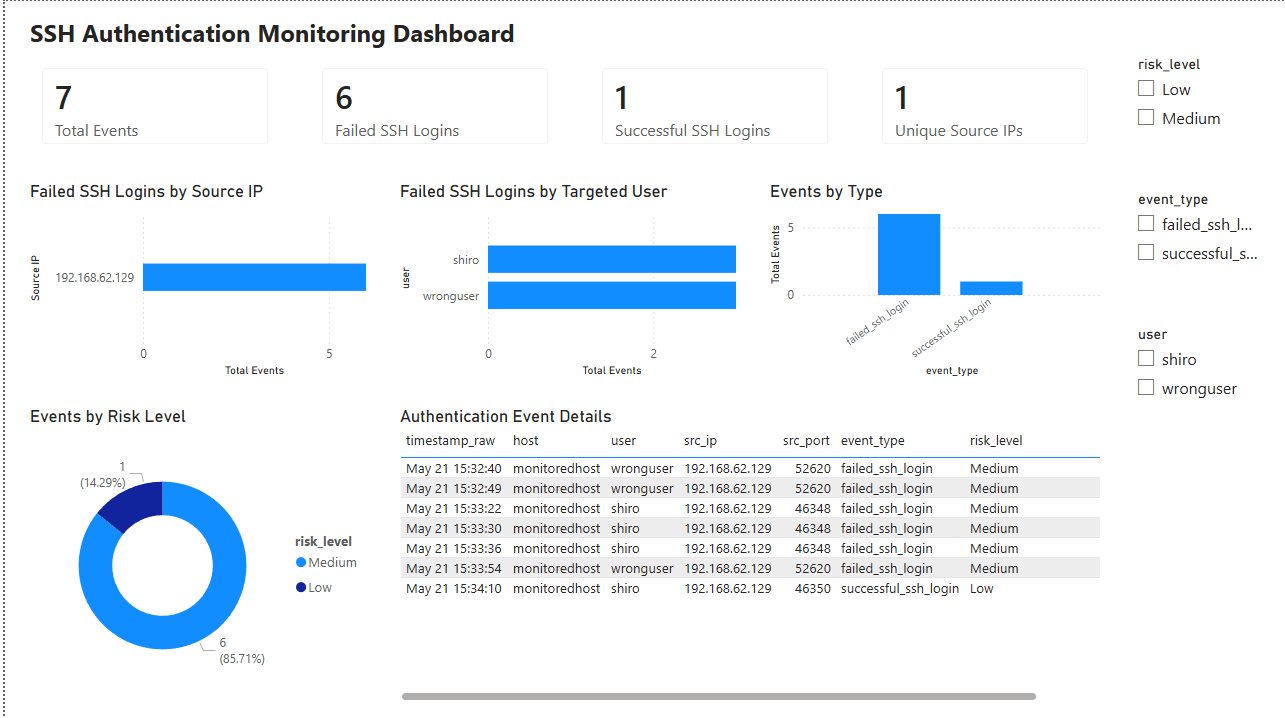

The dashboard page shown, as its layout file describes it:
{"tool":"powerbi","page":{"name":"Security Overview","canvas":[1280,720],"ordinal":0},"visuals":[{"type":"clusteredBarChart","title":"Failed SSH Logins by Source IP","fields":{"Category":["security_events_for_powerbi.src_ip"],"Y":["security_events_for_powerbi.Total Events"]},"box":[20,180,350,200],"z":0},{"type":"clusteredBarChart","title":"Failed SSH Logins by Targeted User","fields":{"Category":["security_events_for_powerbi.user"],"Y":["security_events_for_powerbi.Total Events"]},"box":[390,180,350,200],"z":1000},{"type":"donutChart","title":"Events by Risk Level","fields":{"Category":["security_events_for_powerbi.risk_level"],"Y":["security_events_for_powerbi.Total Events"]},"box":[20,405,350,300],"z":2000},{"type":"clusteredColumnChart","title":"Events by Type","fields":{"Y":["security_events_for_powerbi.Total Events"],"Category":["security_events_for_powerbi.event_type"]},"box":[760,180,340,200],"z":3000},{"type":"tableEx","title":"Authentication Event Details","fields":{"Values":["security_events_for_powerbi.timestamp_raw","security_events_for_powerbi.host","security_events_for_powerbi.user","security_events_for_powerbi.src_ip","security_events_for_powerbi.src_port","security_events_for_powerbi.event_type","security_events_for_powerbi.risk_level"]},"box":[390,405,710,300],"z":4000},{"type":"slicer","fields":{"Values":["security_events_for_powerbi.risk_level"]},"box":[1120,50,140,120],"z":5000},{"type":"slicer","fields":{"Values":["security_events_for_powerbi.event_type"]},"box":[1120,185,140,120],"z":6000},{"type":"slicer","fields":{"Values":["security_events_for_powerbi.user"]},"box":[1120,320,140,120],"z":7000},{"type":"textbox","box":[20,10,540,50],"z":8000},{"type":"cardVisual","fields":{"Data":["security_events_for_powerbi.Total Events"]},"box":[20,50,260,110],"z":9000},{"type":"cardVisual","fields":{"Data":["security_events_for_powerbi.FailedSSH_Logins"]},"box":[300,50,260,110],"z":10000},{"type":"cardVisual","fields":{"Data":["security_events_for_powerbi.SuccessfulSSH_Logins"]},"box":[580,50,260,110],"z":11000},{"type":"cardVisual","fields":{"Data":["security_events_for_powerbi.Unique Source IPs"]},"box":[860,50,240,110],"z":12000}]}

Visuals, with their boxes in screenshot pixels (x1, y1, x2, y2), scaled from the page's 1280x720 canvas onto the 1285x718 screenshot:
"Failed SSH Logins by Source IP" clusteredBarChart: locate(20, 180, 371, 379)
"Failed SSH Logins by Targeted User" clusteredBarChart: locate(392, 180, 743, 379)
"Events by Risk Level" donutChart: locate(20, 404, 371, 703)
"Events by Type" clusteredColumnChart: locate(763, 180, 1104, 379)
"Authentication Event Details" tableEx: locate(392, 404, 1104, 703)
slicer - security_events_for_powerbi.risk_level: locate(1124, 50, 1265, 170)
slicer - security_events_for_powerbi.event_type: locate(1124, 184, 1265, 304)
slicer - security_events_for_powerbi.user: locate(1124, 319, 1265, 439)
textbox: locate(20, 10, 562, 60)
cardVisual - security_events_for_powerbi.Total Events: locate(20, 50, 281, 160)
cardVisual - security_events_for_powerbi.FailedSSH_Logins: locate(301, 50, 562, 160)
cardVisual - security_events_for_powerbi.SuccessfulSSH_Logins: locate(582, 50, 843, 160)
cardVisual - security_events_for_powerbi.Unique Source IPs: locate(863, 50, 1104, 160)
